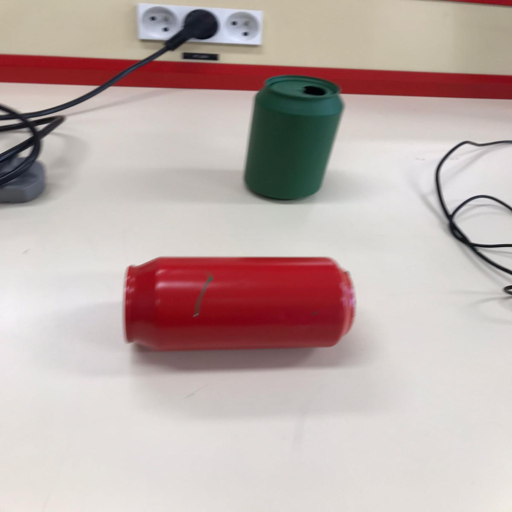Green_Can: (239, 72, 346, 203)
Red_Can: (119, 253, 357, 355)
